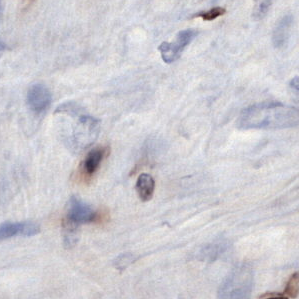Lymphocyte: (201, 5, 227, 23)
